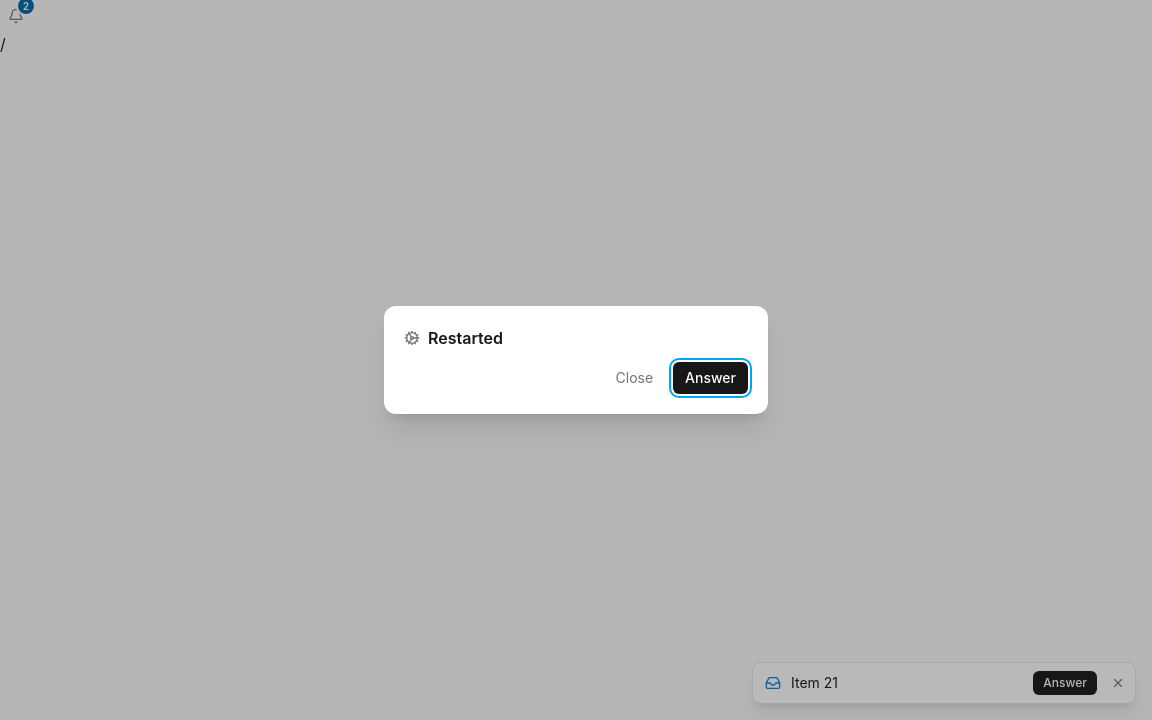
Scenario: modal › Close marks it read and closes it; ordinary ones never open a modal
What coordinates should you click on to do the following:
click the button "Close"
I would click on:
 (634, 378)
Its box is [604,362,665,394].
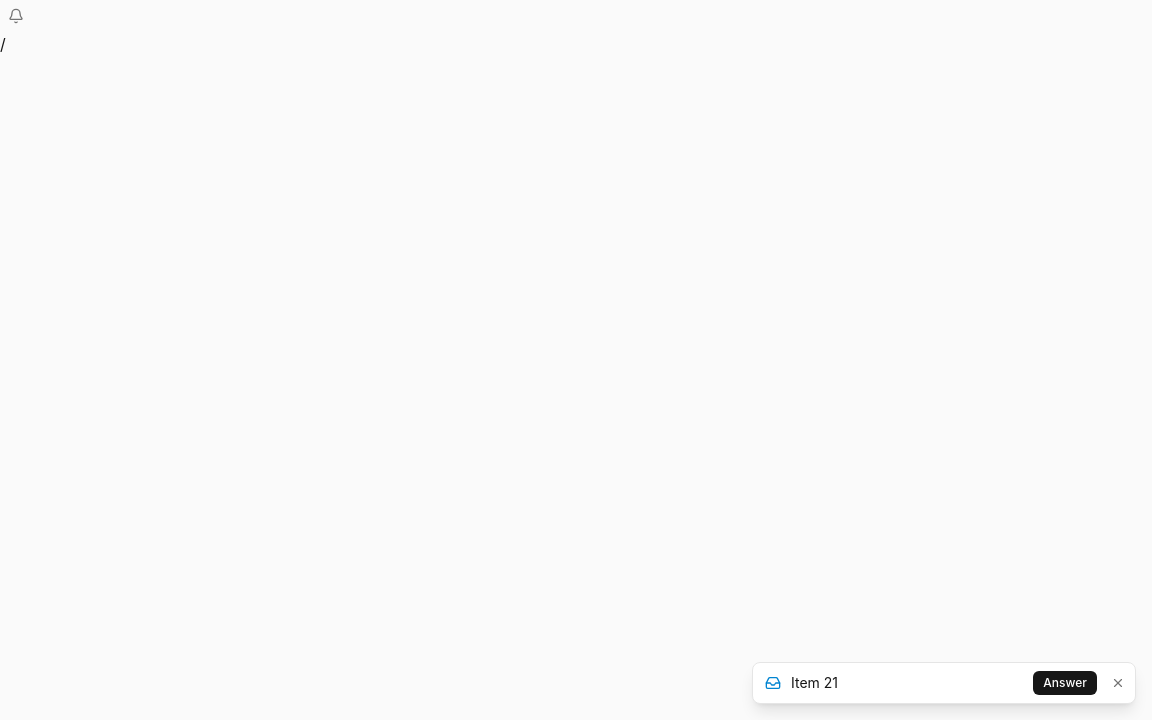
Now the dialog is gone
